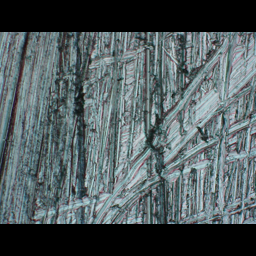d: (86, 41, 255, 223)
